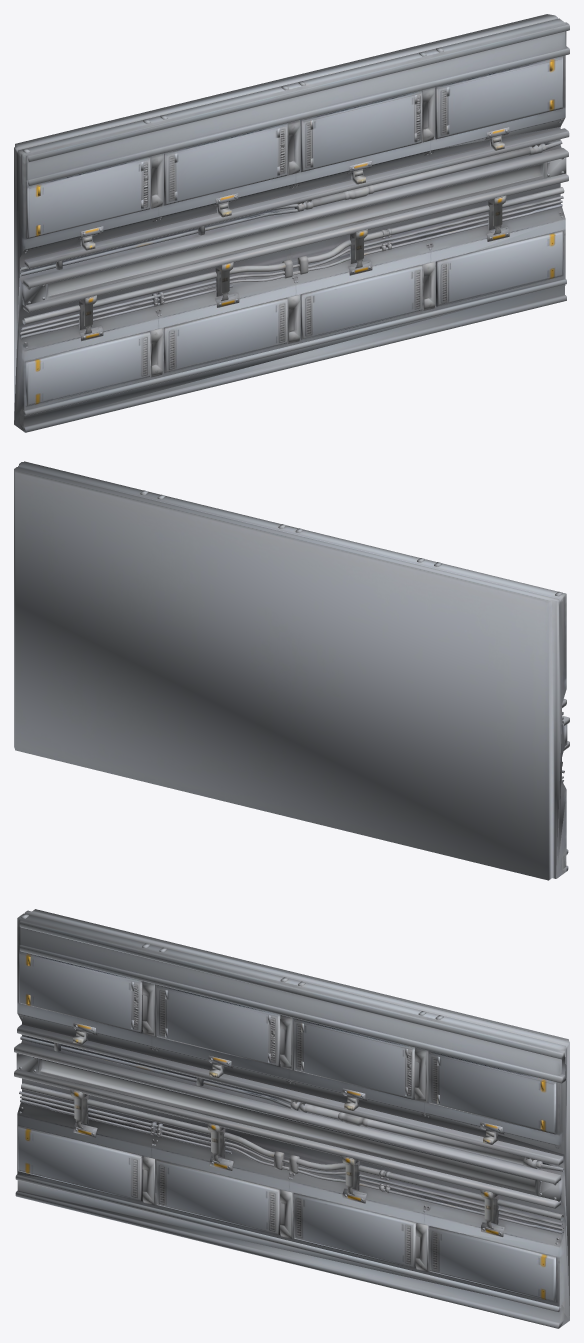
Rendered from tripo_convert_ff0ca36b-620b-4079-9505-e22c2731a239.fbx.
3 views of the same model, one above another, from view 1: azimuth 30°, elevation 25°; view 2: azimuth 150°, elevation 25°; view 3: azimuth 330°, elevation 25° (orthographic).
Visible parts, largest first — view 1: tripo_part_2, tripo_part_3, tripo_part_18, tripo_part_28, tripo_part_120, tripo_part_116, tripo_part_115, tripo_part_119, tripo_part_111, tripo_part_118, tripo_part_113, tripo_part_114 (+20 smaller); view 2: tripo_part_3, tripo_part_2; view 3: tripo_part_2, tripo_part_3, tripo_part_18, tripo_part_28, tripo_part_120, tripo_part_116, tripo_part_115, tripo_part_119, tripo_part_111, tripo_part_118, tripo_part_113, tripo_part_114 (+21 smaller).
Boxes of the visible parts, bbox=[...] form: tripo_part_2: bbox=[14, 90, 566, 430]; tripo_part_3: bbox=[14, 14, 566, 432]; tripo_part_18: bbox=[22, 157, 566, 306]; tripo_part_28: bbox=[28, 22, 569, 185]; tripo_part_120: bbox=[435, 56, 562, 139]; tripo_part_116: bbox=[164, 123, 287, 205]; tripo_part_115: bbox=[27, 157, 149, 238]; tripo_part_119: bbox=[301, 90, 421, 171]; tripo_part_111: bbox=[23, 148, 568, 288]; tripo_part_118: bbox=[436, 230, 562, 306]; tripo_part_113: bbox=[25, 331, 149, 406]; tripo_part_114: bbox=[164, 298, 287, 372]; tripo_part_3: bbox=[14, 461, 568, 880]; tripo_part_2: bbox=[556, 724, 568, 878]; tripo_part_2: bbox=[15, 984, 569, 1319]; tripo_part_3: bbox=[15, 909, 569, 1328]; tripo_part_18: bbox=[16, 1053, 561, 1201]; tripo_part_28: bbox=[19, 921, 566, 1083]; tripo_part_120: bbox=[428, 1051, 556, 1134]; tripo_part_116: bbox=[156, 984, 280, 1066]; tripo_part_115: bbox=[19, 950, 142, 1033]; tripo_part_119: bbox=[294, 1018, 414, 1099]; tripo_part_111: bbox=[14, 1043, 560, 1184]; tripo_part_118: bbox=[429, 1226, 555, 1302]; tripo_part_113: bbox=[18, 1125, 142, 1201]; tripo_part_114: bbox=[156, 1159, 280, 1234].
Bounding box in the file's own units: 0.9995 × 0.4888 × 0.0571.
Materials: 1 (1 with a texture image).
